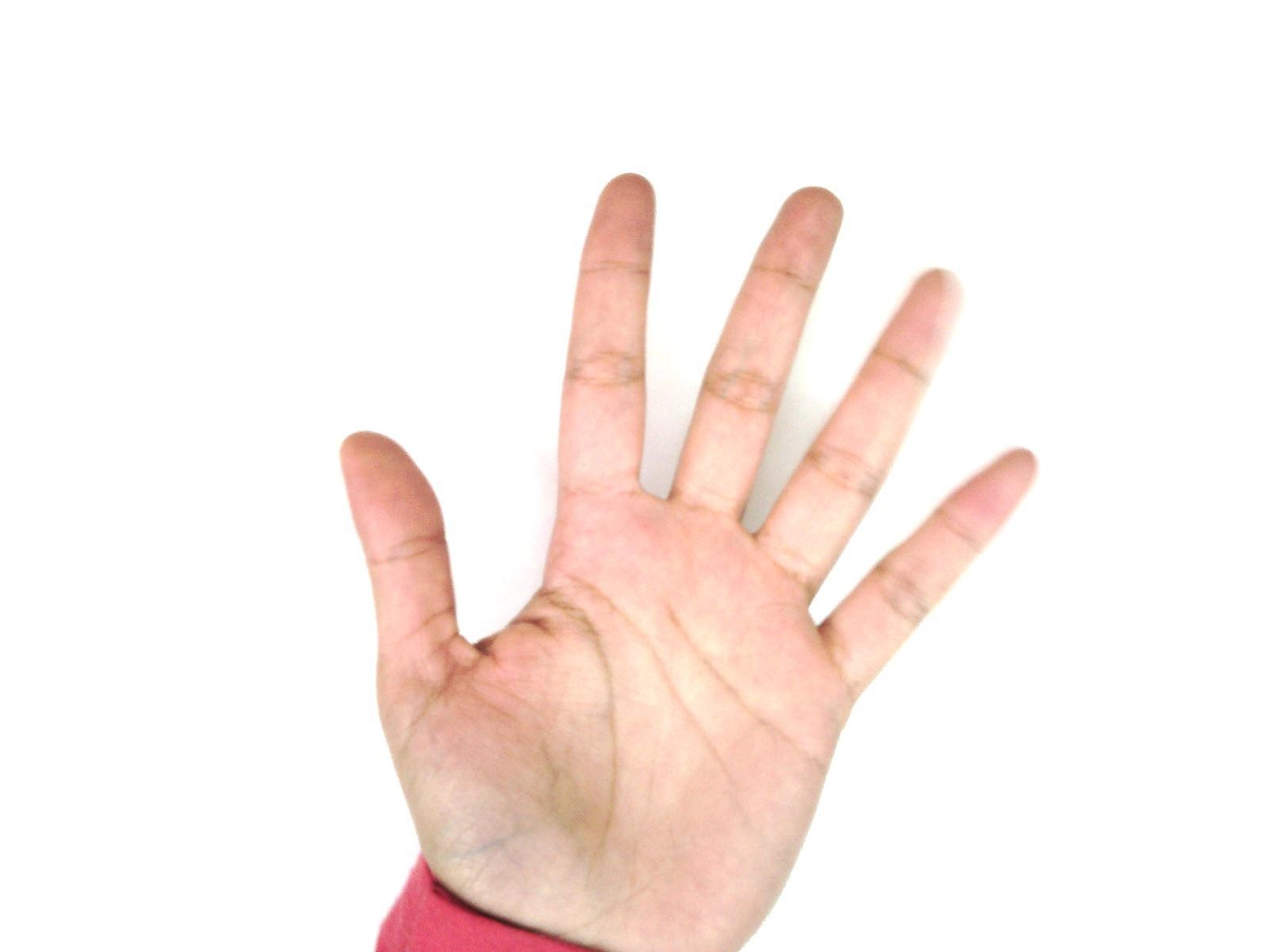open_palm: (336, 171, 1041, 950)
